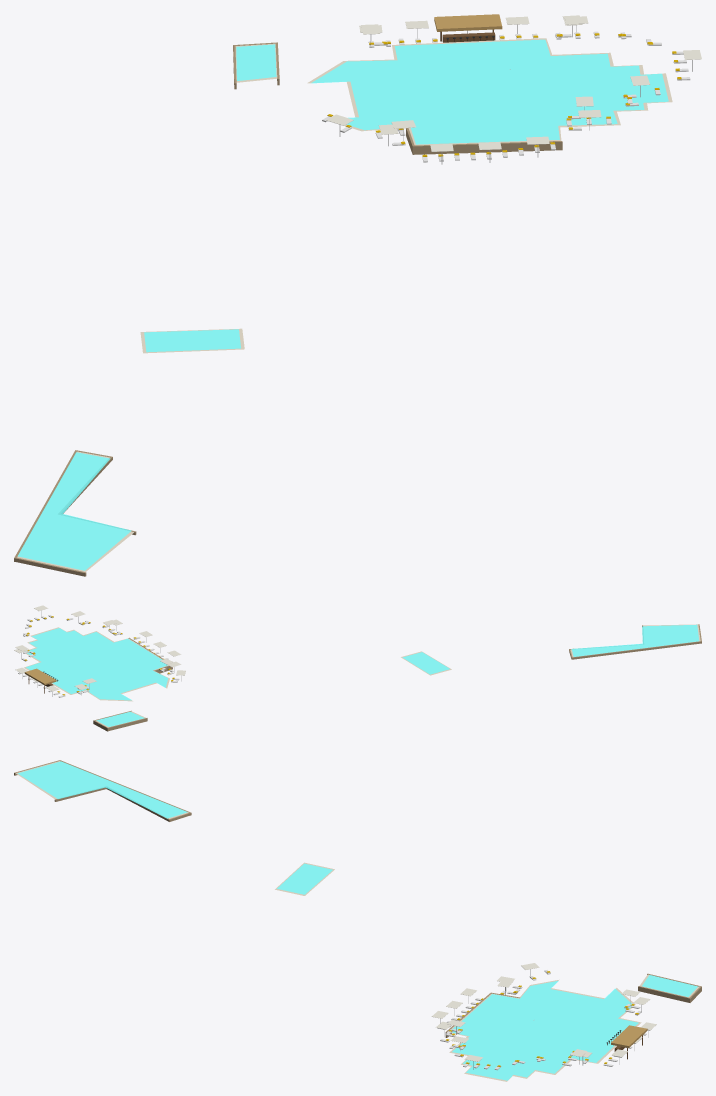
Rendered from riupool.glb.
3 views of the same model, one above another, from view 1: azimuth 30°, elevation 25°; view 2: azimuth 150°, elevation 25°; view 3: azimuth 270°, elevation 25° (orthographic). The views are drawn at different scales.
Parts seen in each view (by area): view 1: riupool_lod0; view 2: riupool_lod0; view 3: riupool_lod0.
Boxes of the visible parts, box(x1,y1,x2,y2) form: riupool_lod0: box(14, 14, 701, 576); riupool_lod0: box(14, 605, 701, 731); riupool_lod0: box(14, 760, 701, 1081).
Size of what is drawn, in the model's own units: 174 by 8.24 by 152.
